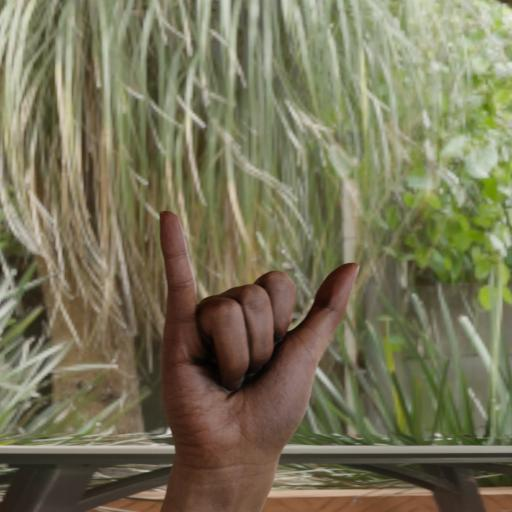Y: (142, 178, 378, 457)
